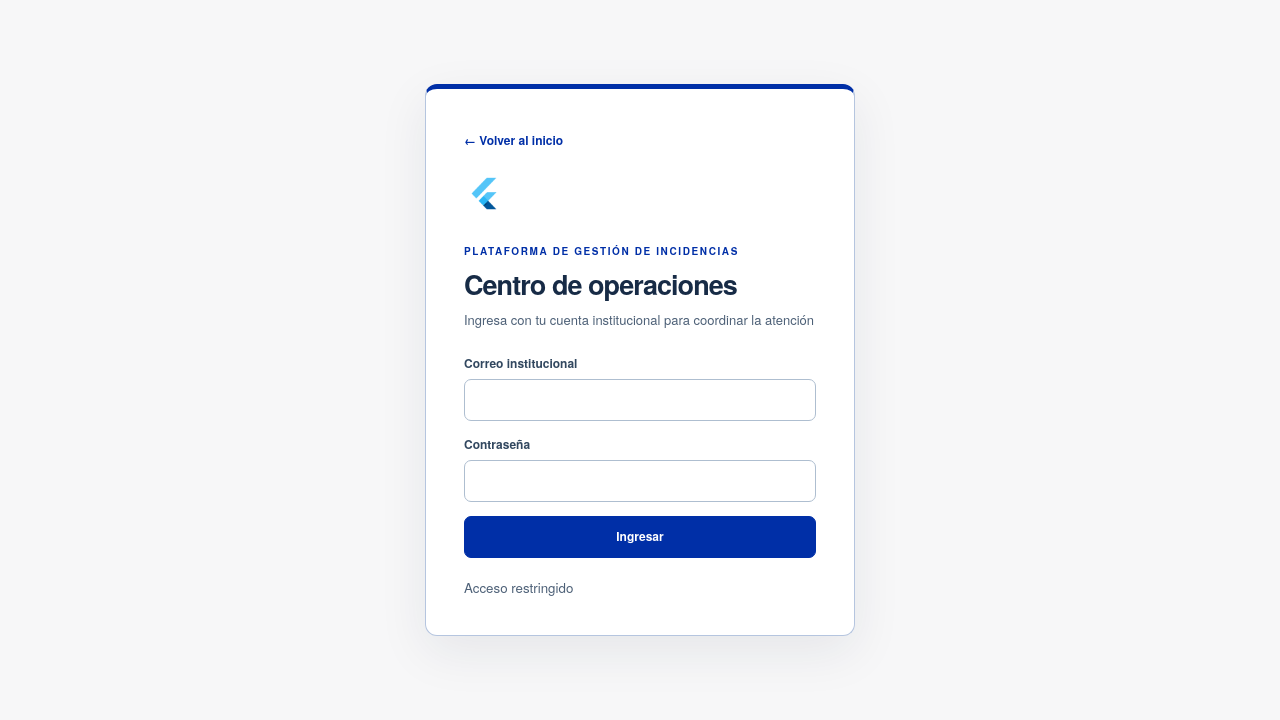
impide duplicar el guardado mientras conserva el progreso
The image size is (1280, 720).
In the field labelled "Correo institucional": [640, 400] box [464,379,816,421], type "operator@example.invalid"
In the password field labelled "Contraseña": [640, 481] box [464,460,816,502], type "test-password-only"
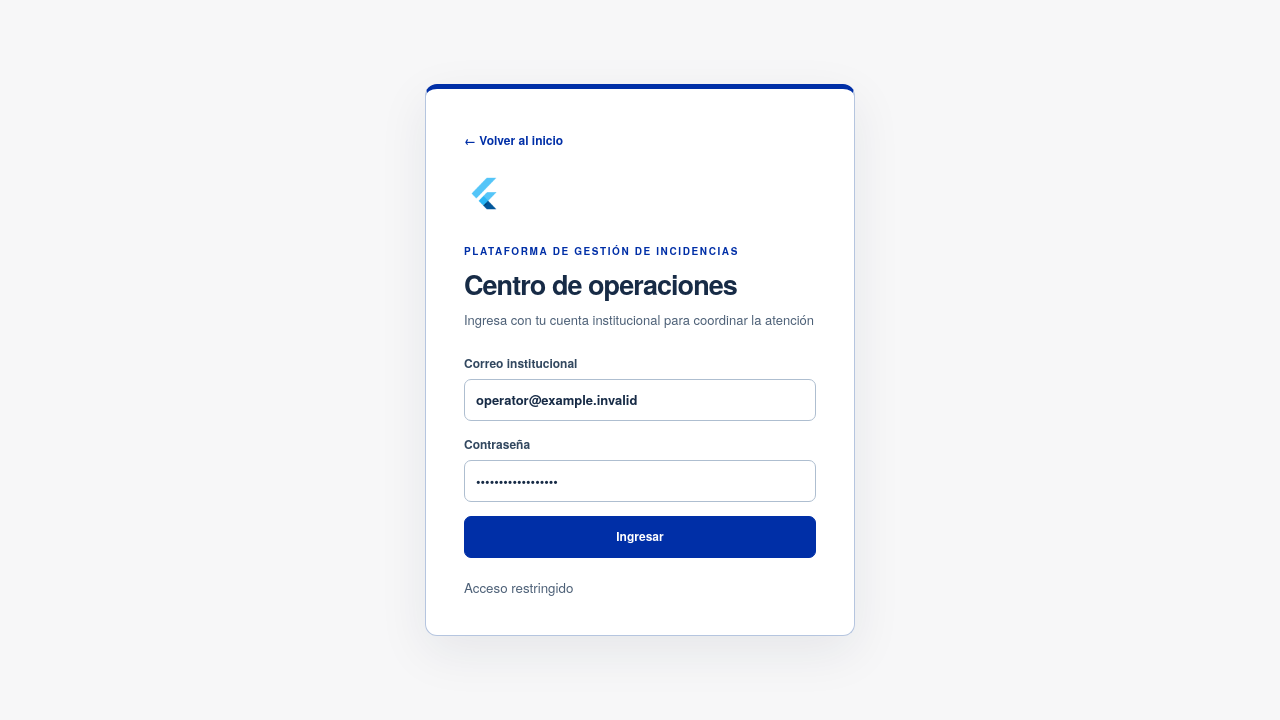
Click the button "Ingresar": [640, 537] box [464,516,816,558]
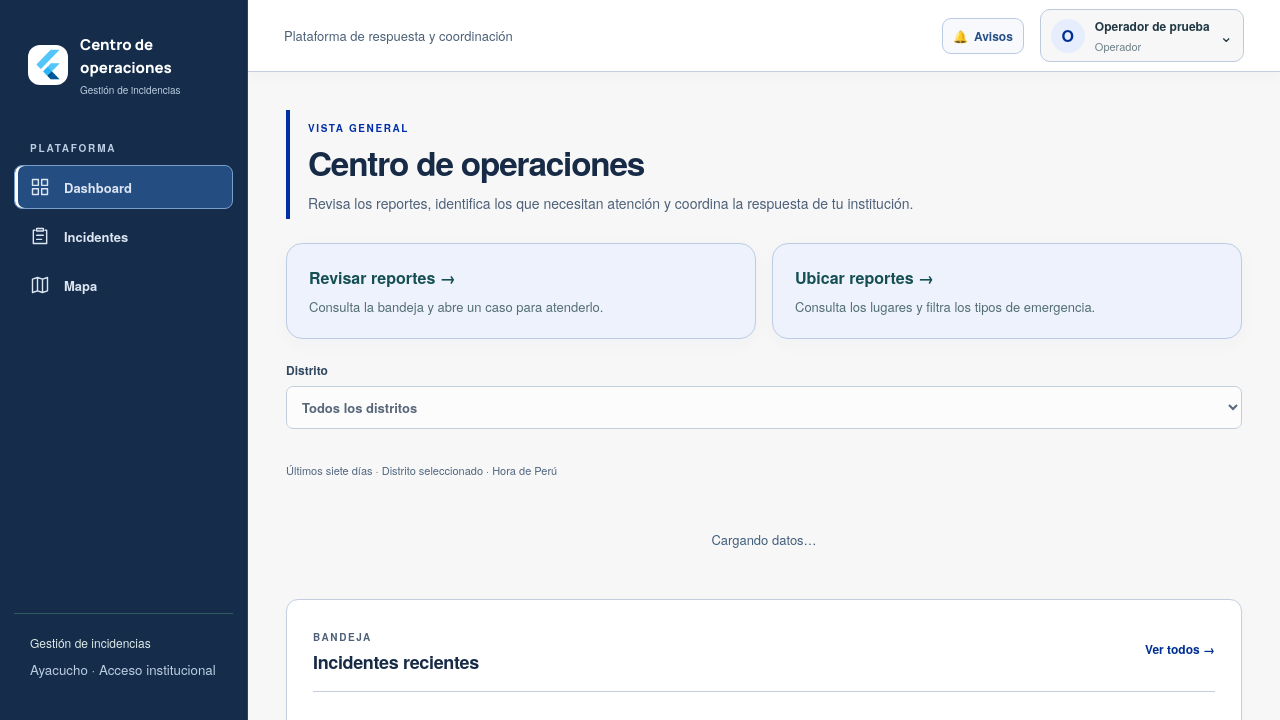
Click the button with aria-label "Cuenta de": [1142, 36] box [1040,9,1244,62]
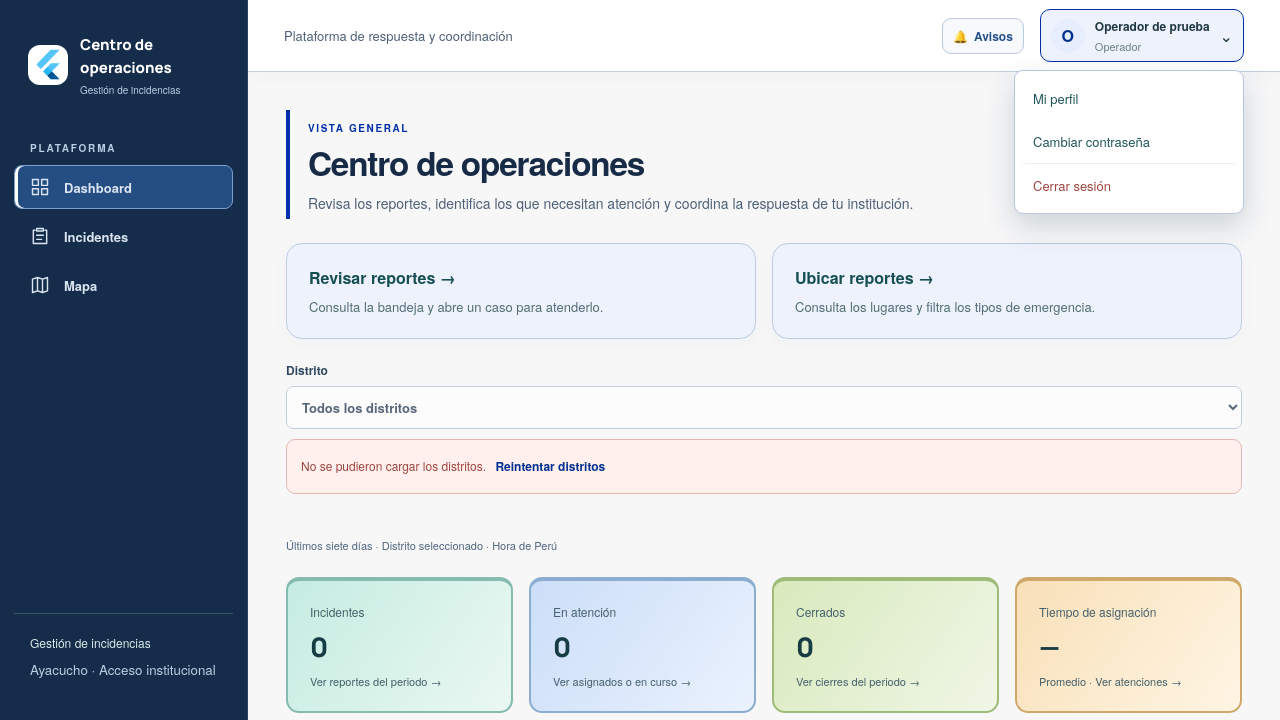
Click the link "Mi perfil": [1056, 98] box [1033,89,1078,108]
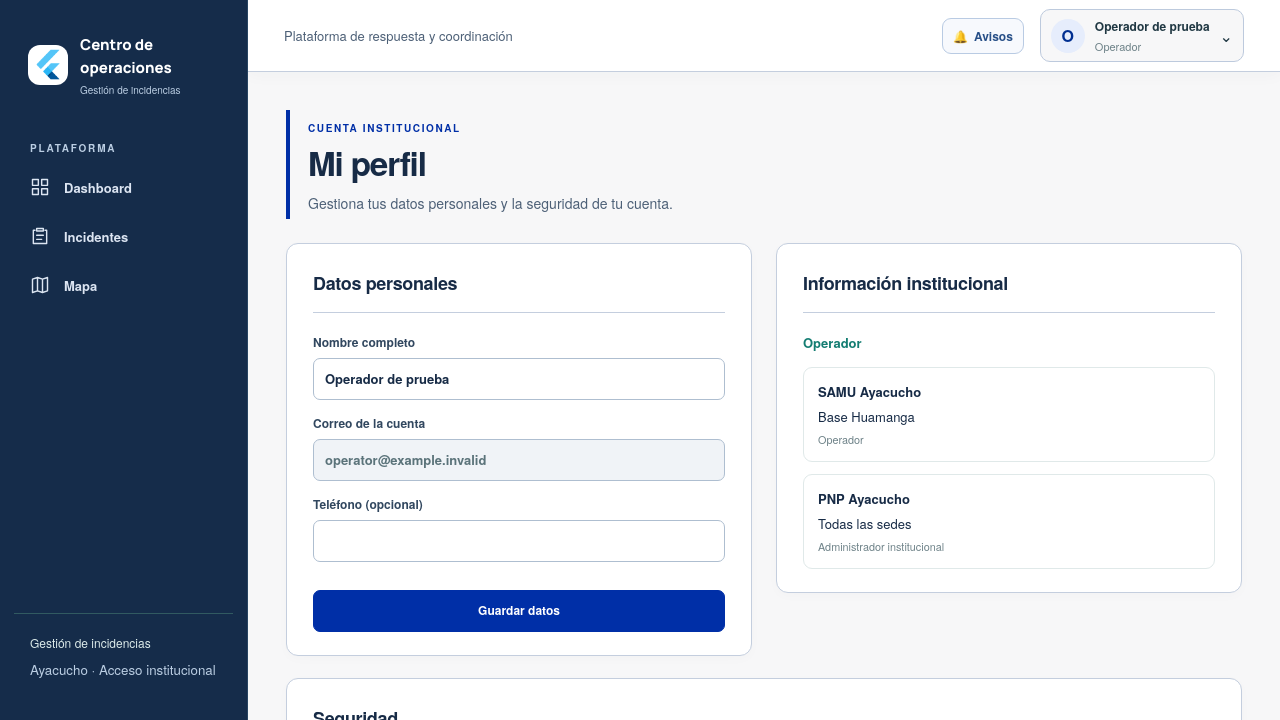
Expected: the field labelled "Nombre completo" is shown, [313,358,725,400]
Click the button "Guardar datos": [519, 611] box [313,590,725,632]
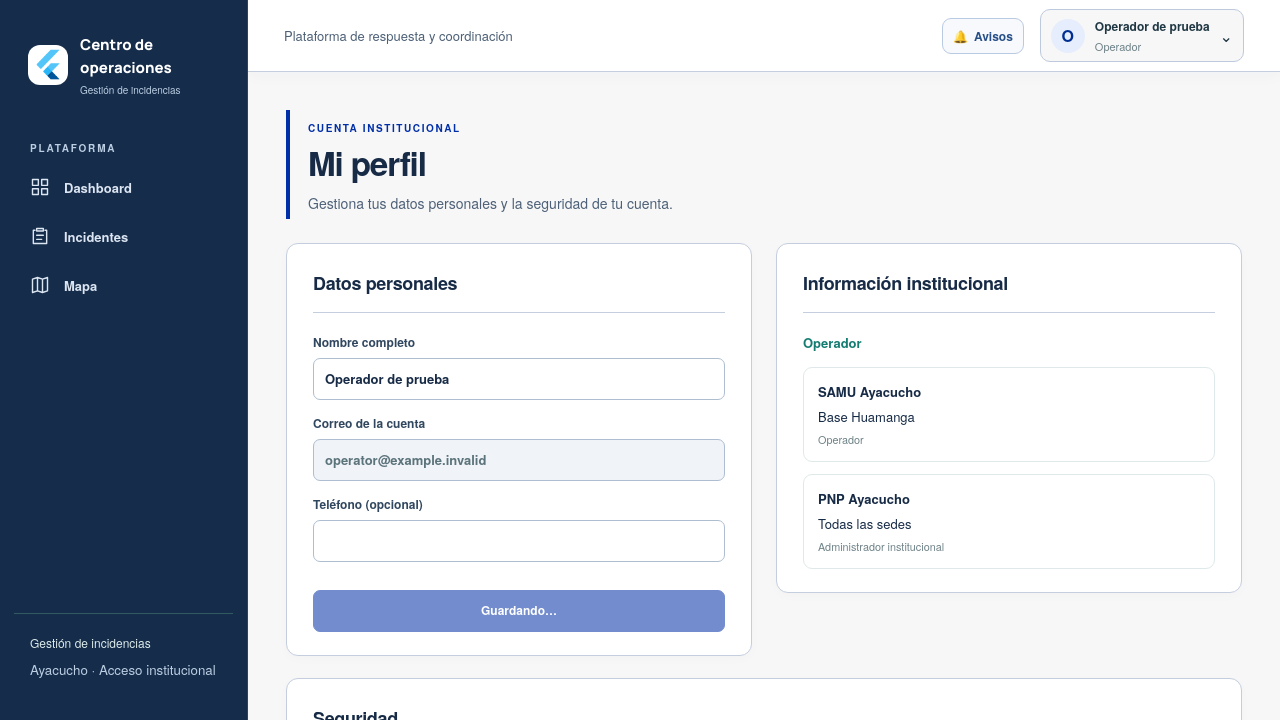
Expected: the button "Guardando…" is disabled, [313,590,725,632]
Submit the form "Guardando…", box [313,333,725,632]
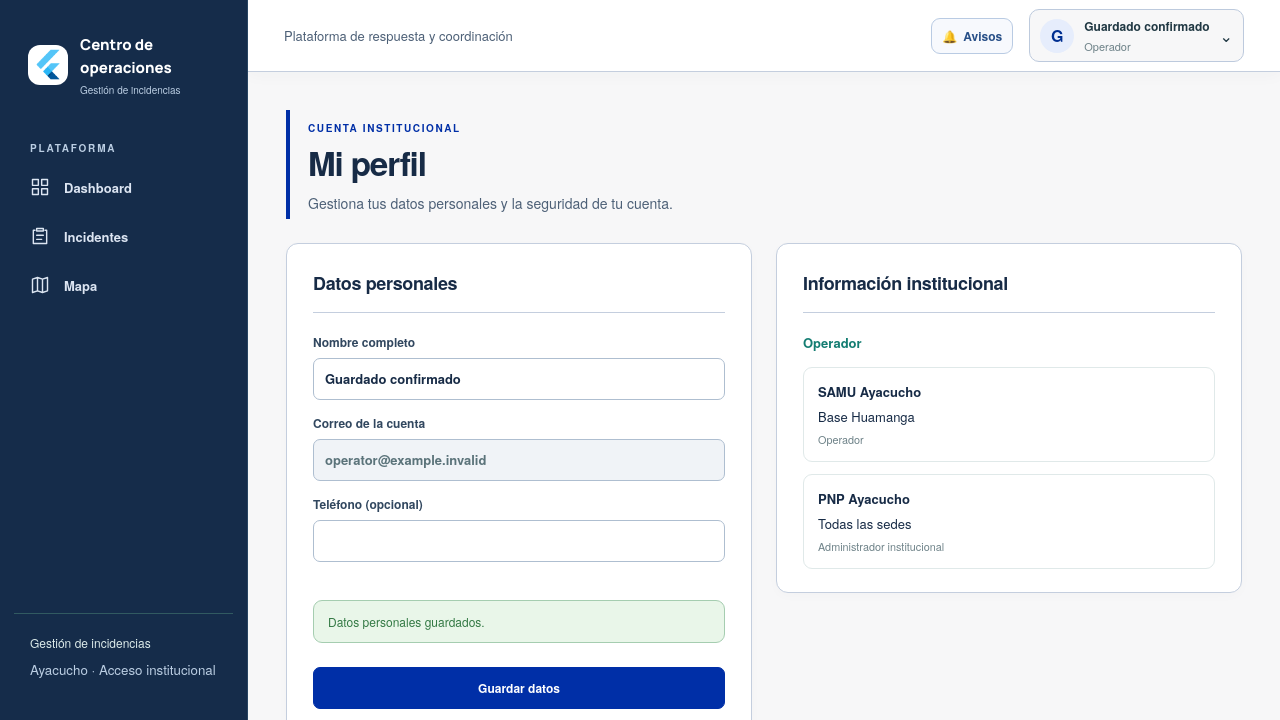
Expected: the text "Datos personales guardados." is shown, [313,600,725,643]
